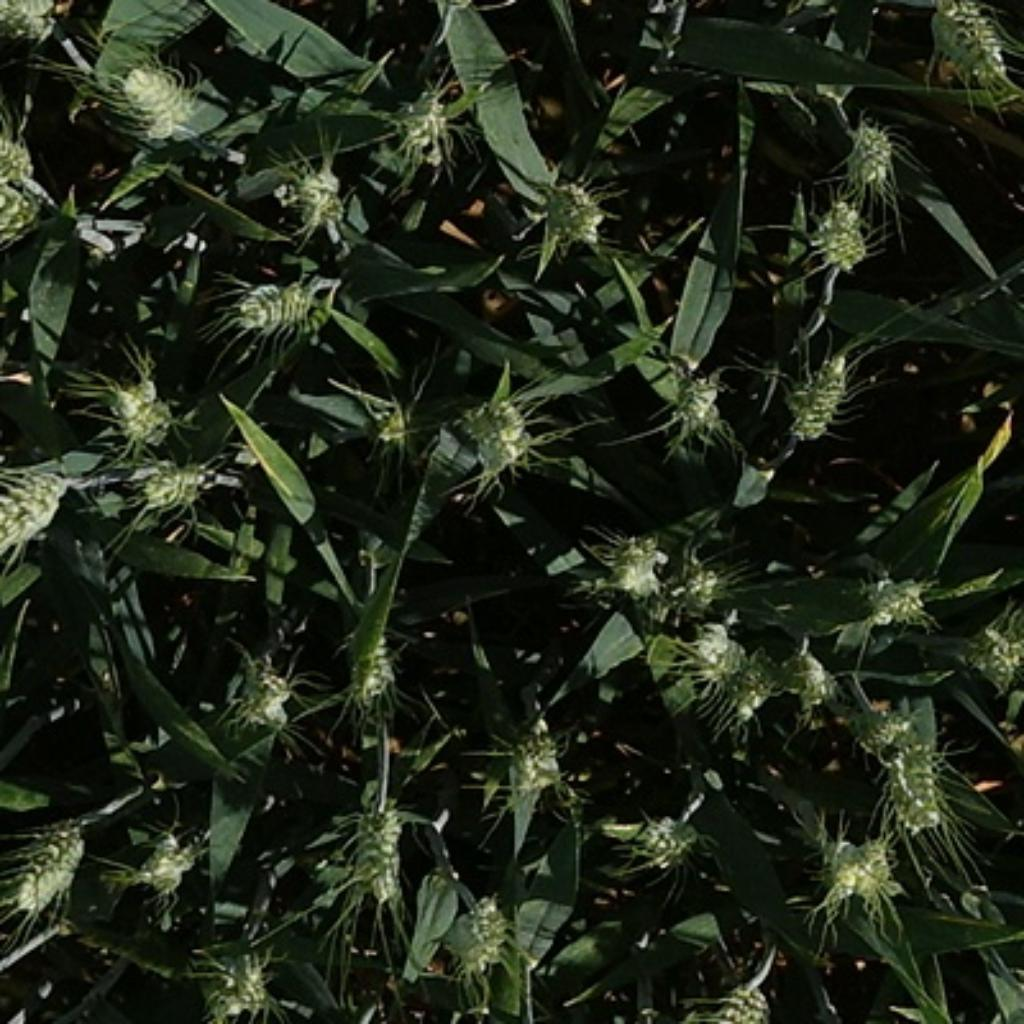0-0: (2, 806, 94, 913), (330, 796, 414, 906), (775, 340, 860, 445), (880, 729, 965, 834), (102, 51, 209, 133), (450, 381, 542, 476), (916, 0, 1013, 84), (491, 721, 570, 819), (806, 824, 898, 908), (337, 591, 399, 714), (0, 467, 78, 564), (737, 640, 839, 714), (524, 168, 611, 253), (437, 883, 517, 975), (222, 266, 325, 337), (655, 350, 729, 445), (593, 524, 675, 606), (199, 936, 279, 1018), (962, 576, 1024, 680), (222, 647, 296, 732), (381, 79, 460, 158), (128, 821, 209, 898), (97, 371, 176, 448), (834, 110, 906, 194), (847, 563, 934, 632), (801, 194, 878, 271), (683, 614, 757, 691), (128, 450, 217, 514), (624, 803, 709, 870), (276, 158, 348, 235), (695, 975, 782, 1024), (0, 0, 89, 47), (855, 701, 916, 765), (668, 558, 739, 609), (371, 389, 417, 456), (0, 175, 36, 250), (0, 128, 38, 185)
